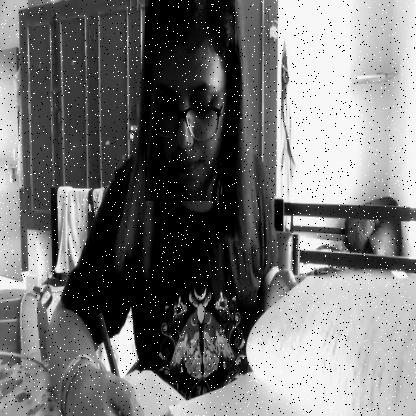Distracted: (146, 0, 235, 201)
